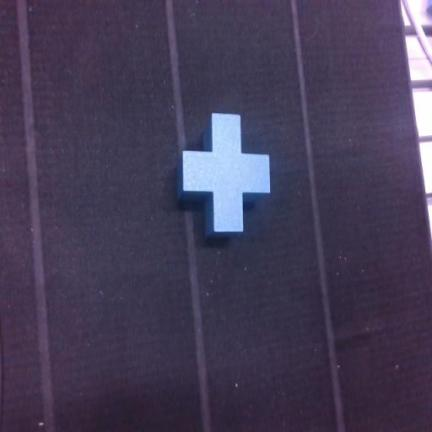cross: (179, 114, 269, 236)
